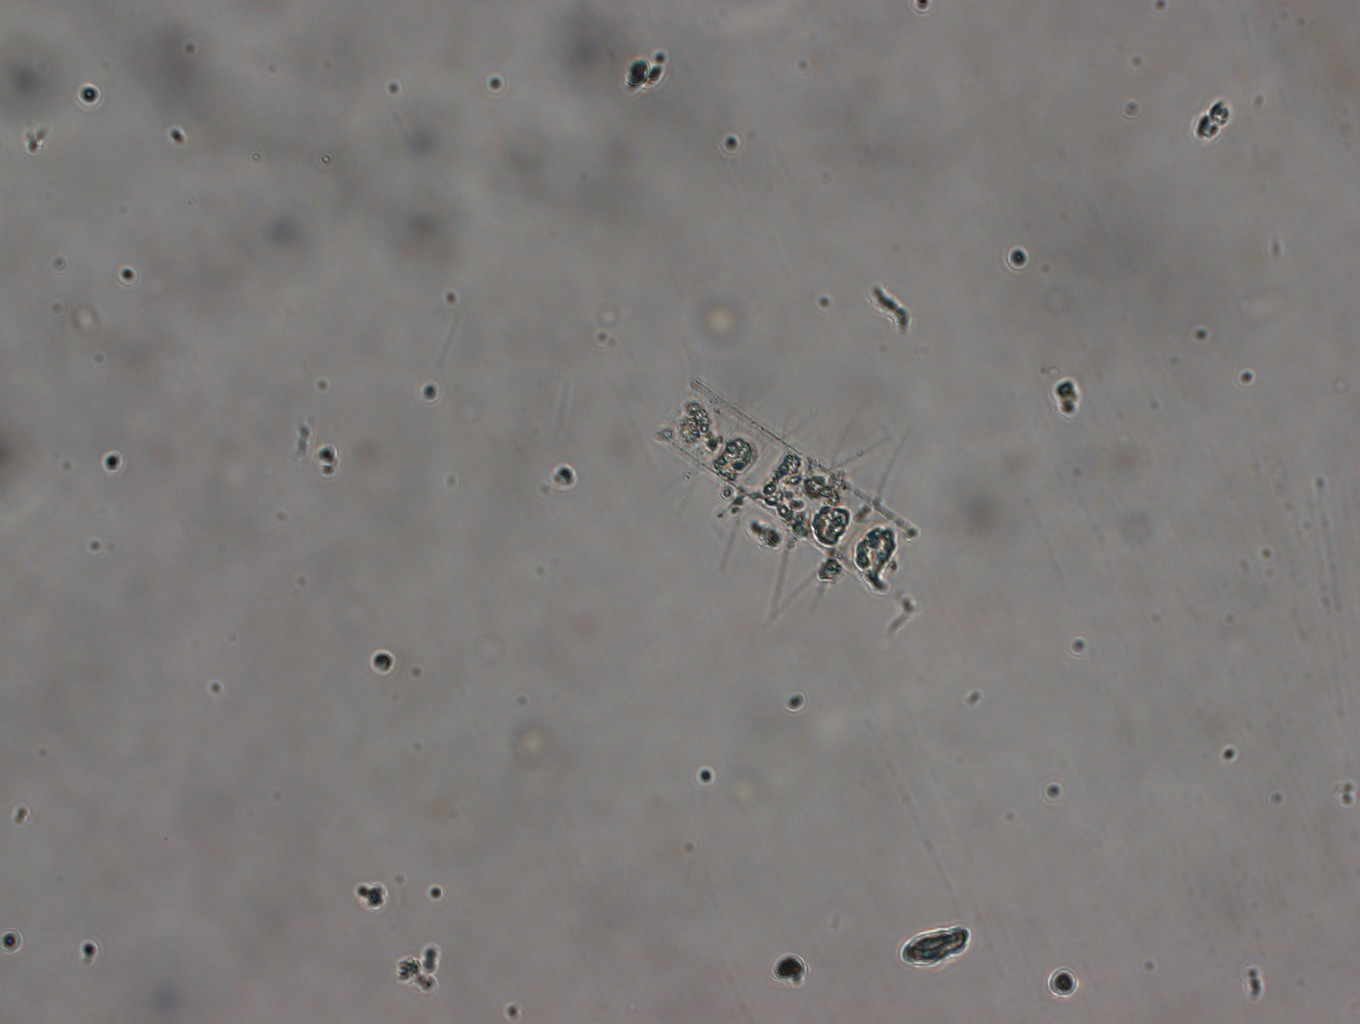chaetoceros: (640, 336, 927, 634)
